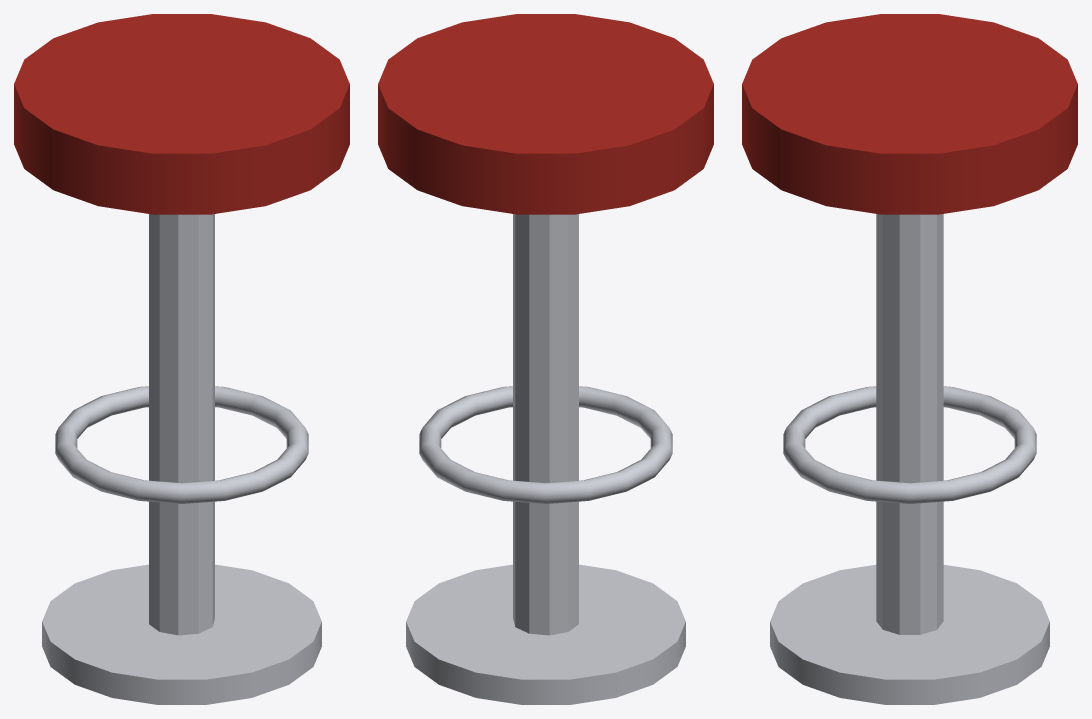
The model's file is bar-stool.glb.
The picture shows the model from 3 angles, left to right: view 1: azimuth 30°, elevation 25°; view 2: azimuth 150°, elevation 25°; view 3: azimuth 270°, elevation 25°; orthographic projection.
Parts seen in each view (by area): view 1: part-chrome, part-upholstery; view 2: part-chrome, part-upholstery; view 3: part-chrome, part-upholstery.
Boxes of the visible parts, x1=… form: part-chrome: x1=42, y1=214, x2=321, y2=704; part-upholstery: x1=14, y1=14, x2=349, y2=214; part-chrome: x1=406, y1=214, x2=685, y2=704; part-upholstery: x1=378, y1=14, x2=713, y2=214; part-chrome: x1=770, y1=214, x2=1049, y2=704; part-upholstery: x1=742, y1=14, x2=1077, y2=214.
Size of the model in its own units: 11.82 by 22.2 by 12.
